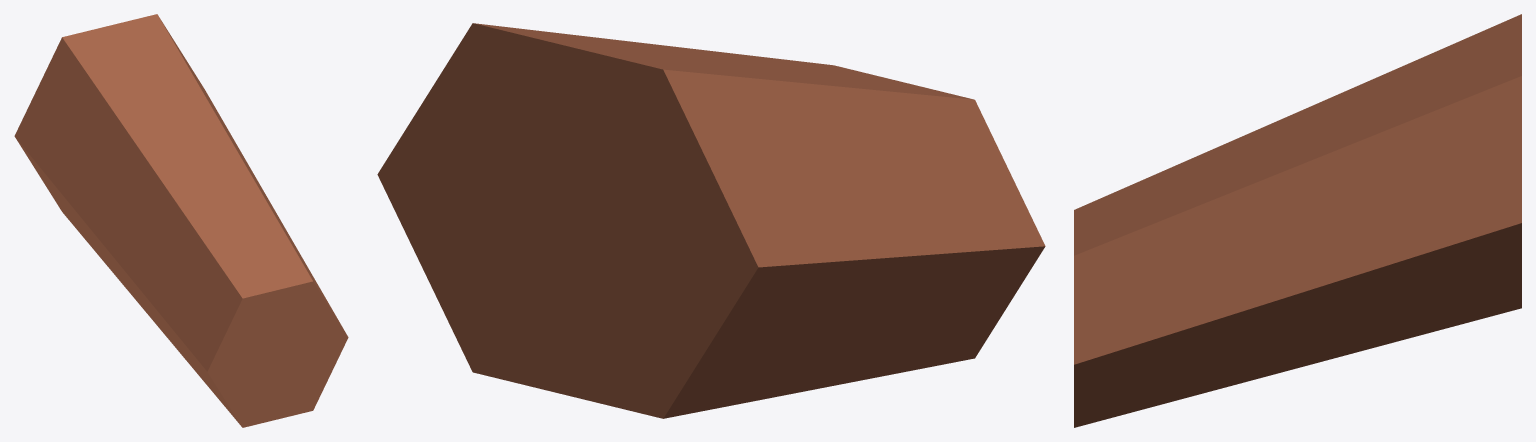
File: bananaStem.obj
3 renders of one model, left to right at view 1: azimuth 30°, elevation 25°; view 2: azimuth 150°, elevation 25°; view 3: azimuth 270°, elevation 25°, orthographic. The views are drawn at different scales.
Visible parts, largest first — view 1: stem; view 2: stem; view 3: stem.
Boxes of the visible parts, box(x1,y1,x2,y2) form: stem: box(14, 14, 348, 427); stem: box(377, 23, 1045, 418); stem: box(1074, 14, 1521, 427).
Size of the model in its own units: 0.0506 by 0.0687 by 0.0774.
